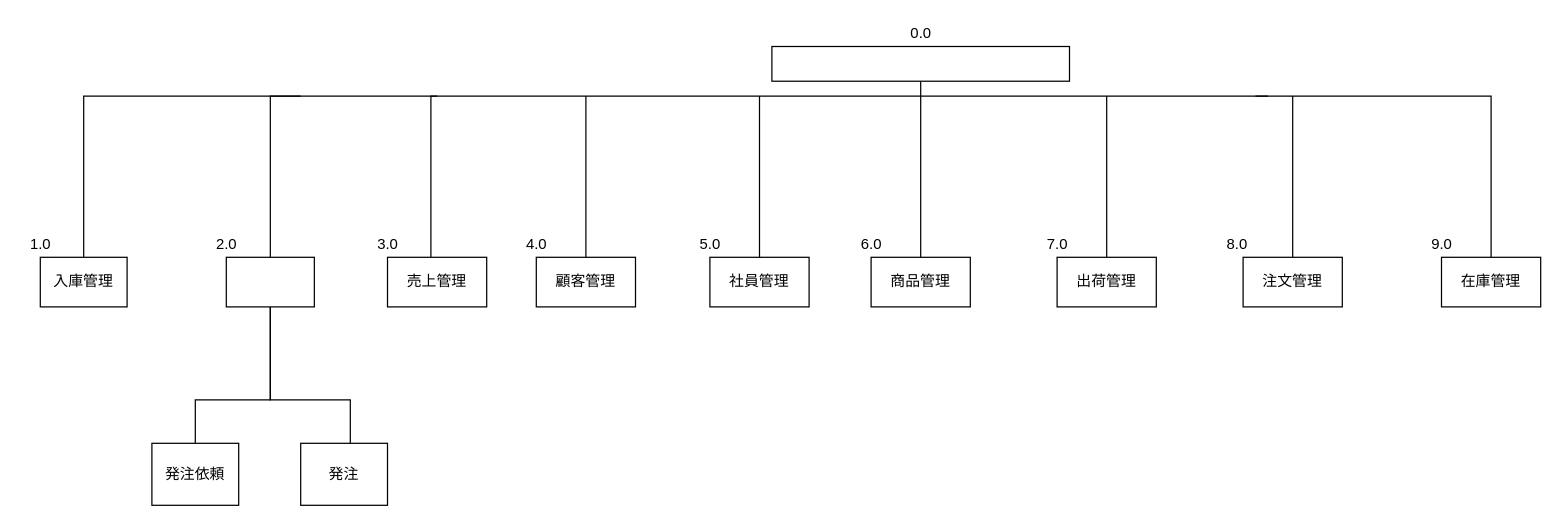
Image size: 1562x527. Some labels were removed from this diagram. Here are the shapes that lost their labels. From the top down, the centre of each, then its label:
pixel 920 63: 販売管理システム
pixel 269 281: 発注管理
